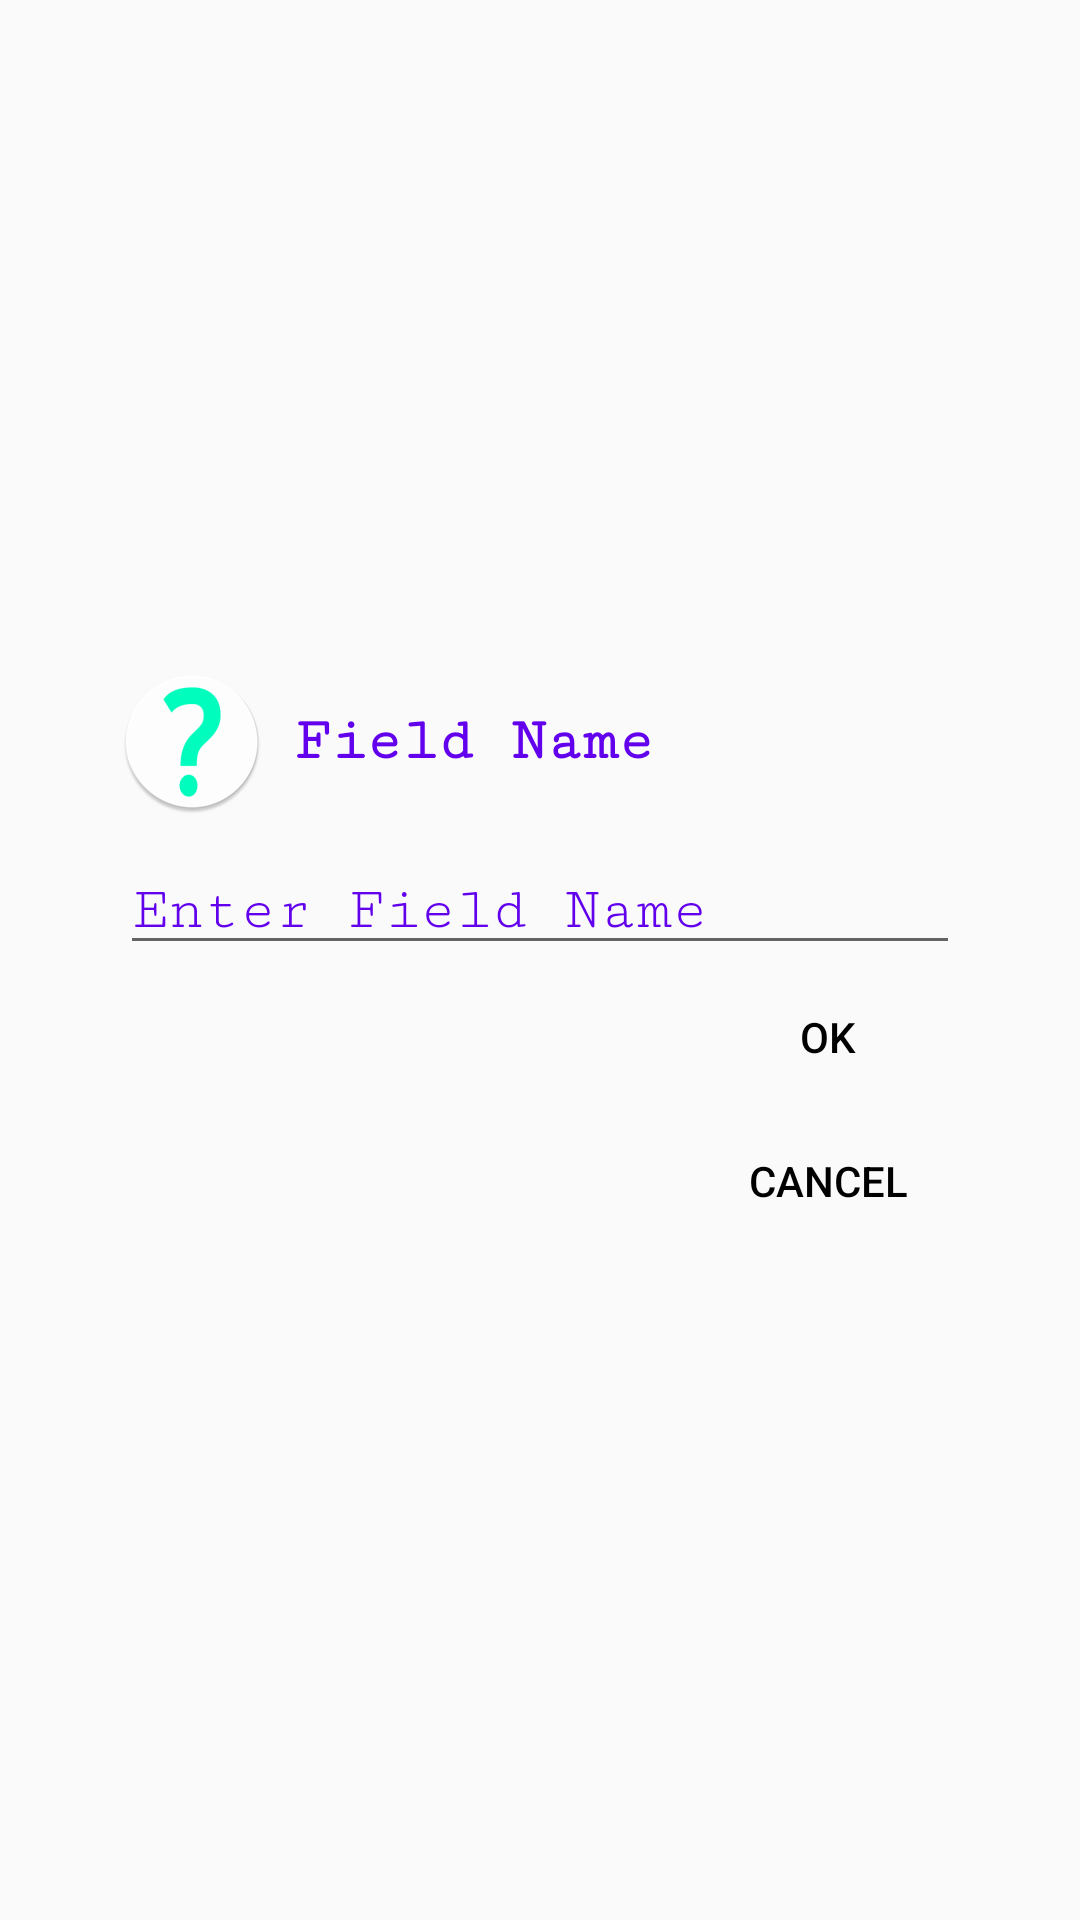

Icon bounding boxes for this 1080×1920 phone screenshot, format bbox=(x1, y1, x2, y2):
question: bbox=(127, 687, 259, 811)
